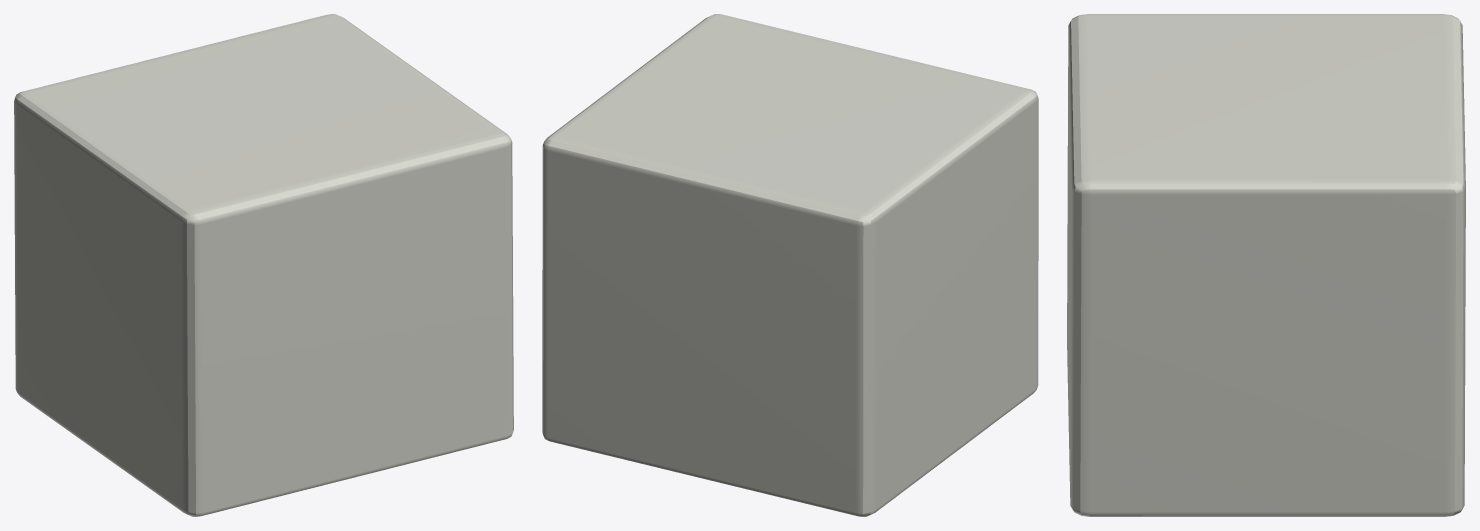
File: table drawer 01.fbx
3 views of the same model, side by side, from view 1: azimuth 30°, elevation 25°; view 2: azimuth 150°, elevation 25°; view 3: azimuth 270°, elevation 25° (orthographic). The views are drawn at different scales.
Visible parts, largest first — view 1: table_drawer_01; view 2: table_drawer_01; view 3: table_drawer_01.
Part boxes in pixels (x1=…): table_drawer_01: x1=14, y1=14, x2=513, y2=516; table_drawer_01: x1=542, y1=14, x2=1038, y2=516; table_drawer_01: x1=1067, y1=14, x2=1465, y2=516.
Bounding box in the file's own units: 122 × 107 × 114.
